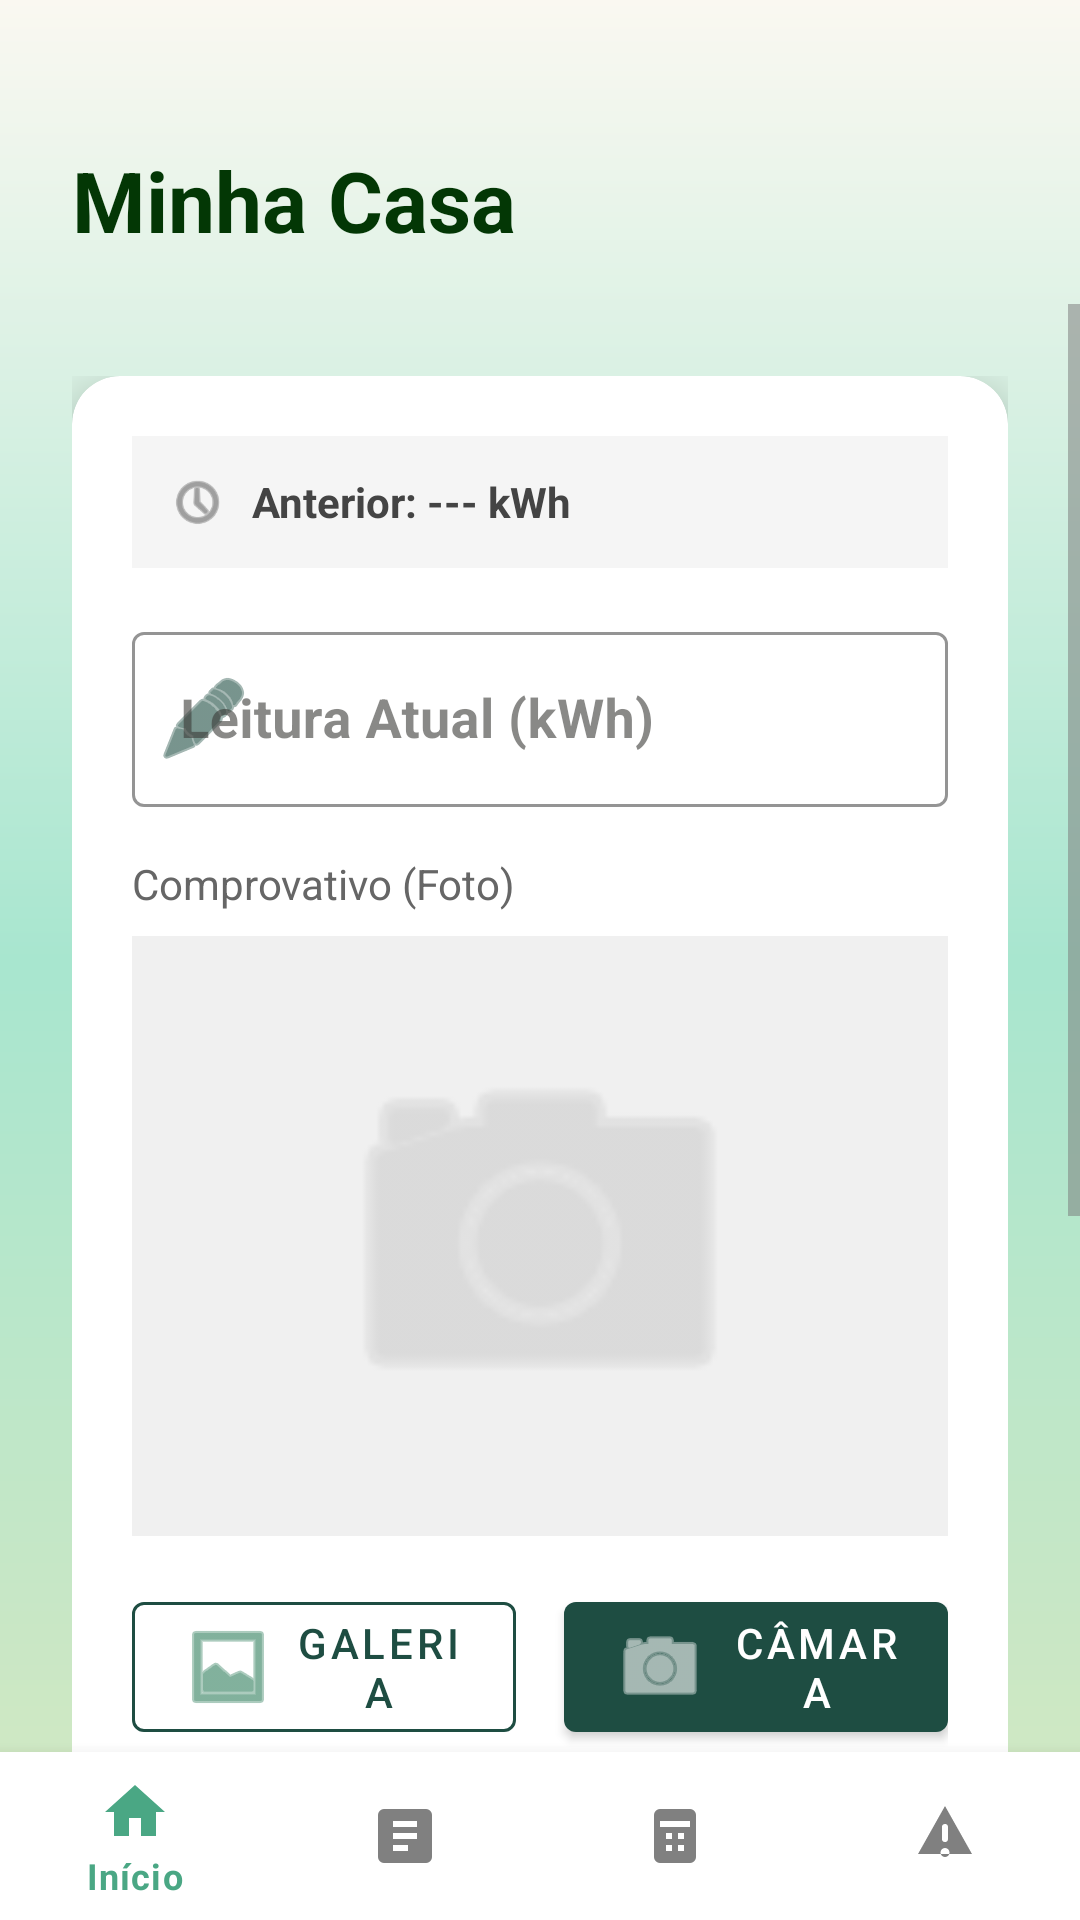

Screen size 1080 x 1920. Icon name, then its box in pixels as (x1, y1, x2, y2):
recent history: (176, 481, 219, 524)
